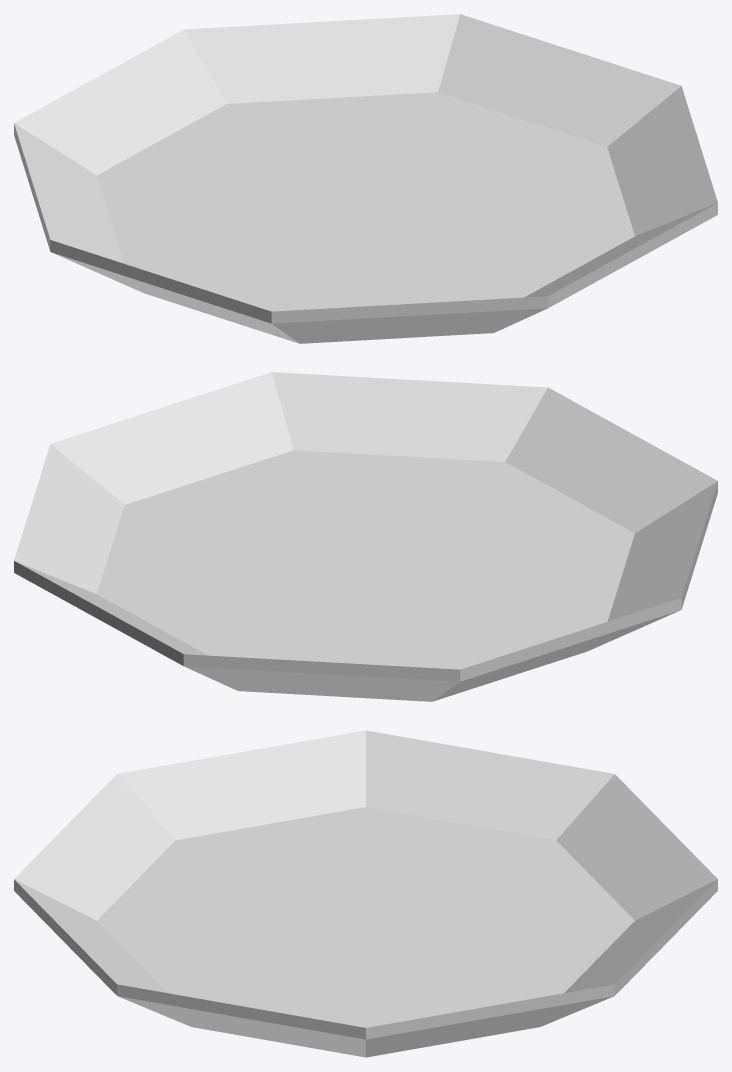
The model's file is plate.glb.
3 views of the same model, one above another, from view 1: azimuth 30°, elevation 25°; view 2: azimuth 150°, elevation 25°; view 3: azimuth 270°, elevation 25° (orthographic). The views are drawn at different scales.
Visible parts, largest first — view 1: plate; view 2: plate; view 3: plate.
Part boxes in pixels (x1=…): plate: x1=14, y1=14, x2=717, y2=343; plate: x1=14, y1=372, x2=717, y2=701; plate: x1=14, y1=730, x2=717, y2=1057.
Size of the model in its own units: 0.2852 by 0.0331 by 0.2852.
1 material, 1 textured.
